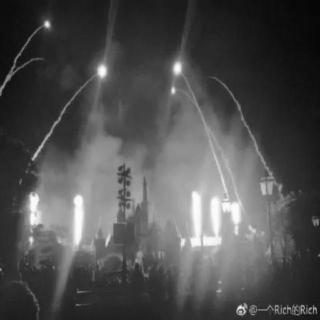Fire: (35, 20, 57, 38)
other: (188, 188, 242, 250), (21, 187, 43, 249)
